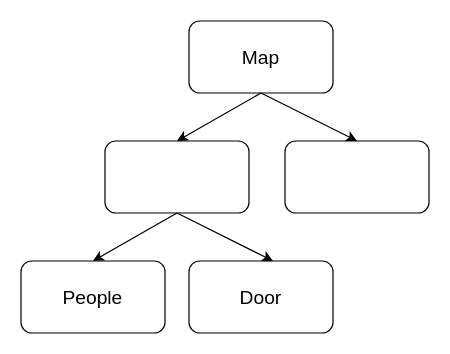
This 450x354 diagram has some shape labels left out. Here are the shapes that lost their labels. From the top down, the centre of each, then its label:
At point (176, 176): "Map block".
At point (356, 176): "Fire".
